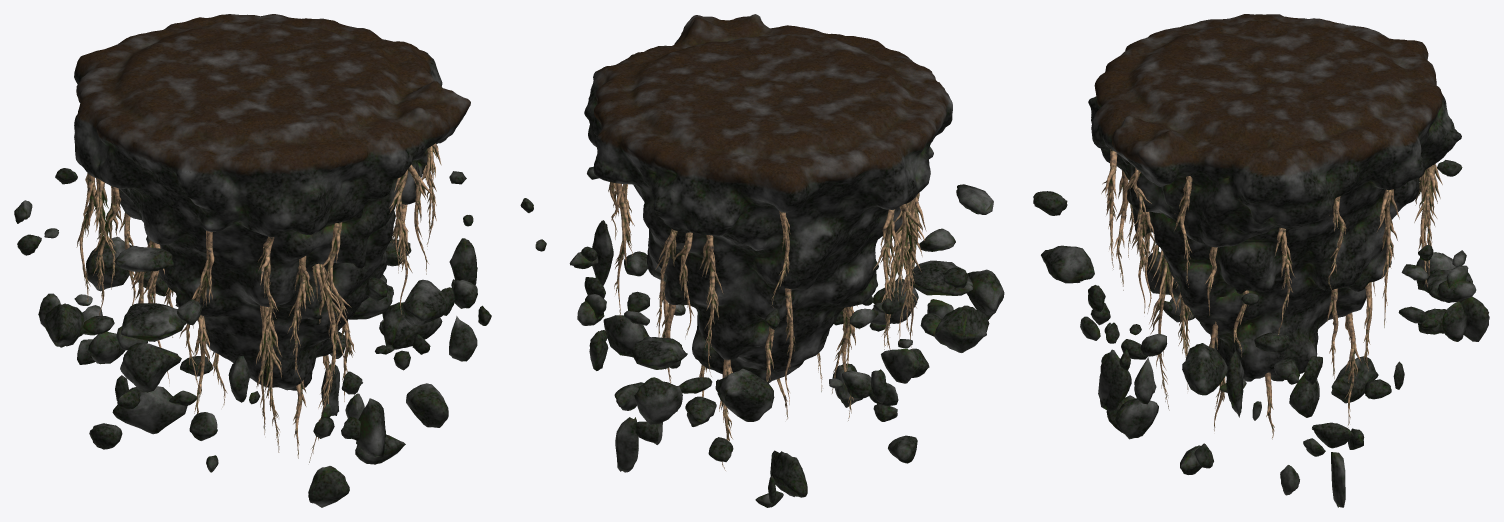
File: floating_island_2k.fbx
3 renders of one model, left to right at view 1: azimuth 30°, elevation 25°; view 2: azimuth 150°, elevation 25°; view 3: azimuth 270°, elevation 25°, orthographic. The views are drawn at different scales.
Parts seen in each view (by area): view 1: Island, Rocks, Roots; view 2: Island, Rocks, Roots; view 3: Island, Rocks, Roots.
Part boxes in pixels (<box>): Island: <box>74,14,470,390</box>; Rocks: <box>14,168,491,507</box>; Roots: <box>76,143,441,462</box>; Island: <box>584,14,952,383</box>; Rocks: <box>520,166,1004,507</box>; Roots: <box>608,182,926,470</box>; Island: <box>1088,14,1461,381</box>; Rocks: <box>1033,160,1489,507</box>; Roots: <box>1101,149,1442,439</box>.
Size of the model in its own units: 3567 by 3128 by 3274.
3 materials, 3 textured.
